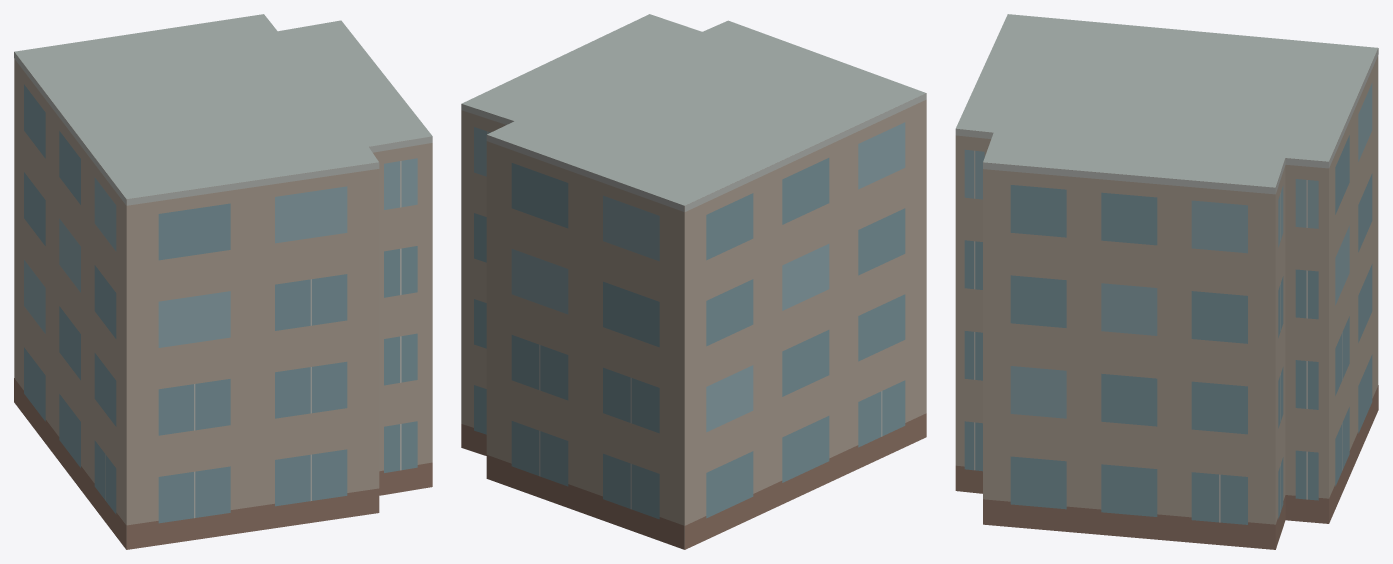
Rendered from survey-upis-32937529.glb.
The picture shows the model from 3 angles, left to right: view 1: azimuth 30°, elevation 25°; view 2: azimuth 150°, elevation 25°; view 3: azimuth 270°, elevation 25°; orthographic projection. The views are drawn at different scales.
Visible parts, largest first — view 1: survey-upis-32937529.tmp; view 2: survey-upis-32937529.tmp; view 3: survey-upis-32937529.tmp.
Part boxes in pixels (bbox=[...]): survey-upis-32937529.tmp: bbox=[14, 14, 432, 549]; survey-upis-32937529.tmp: bbox=[461, 14, 926, 549]; survey-upis-32937529.tmp: bbox=[955, 14, 1378, 549].
Bounding box in the file's own units: 13.45 × 13.07 × 13.84.
